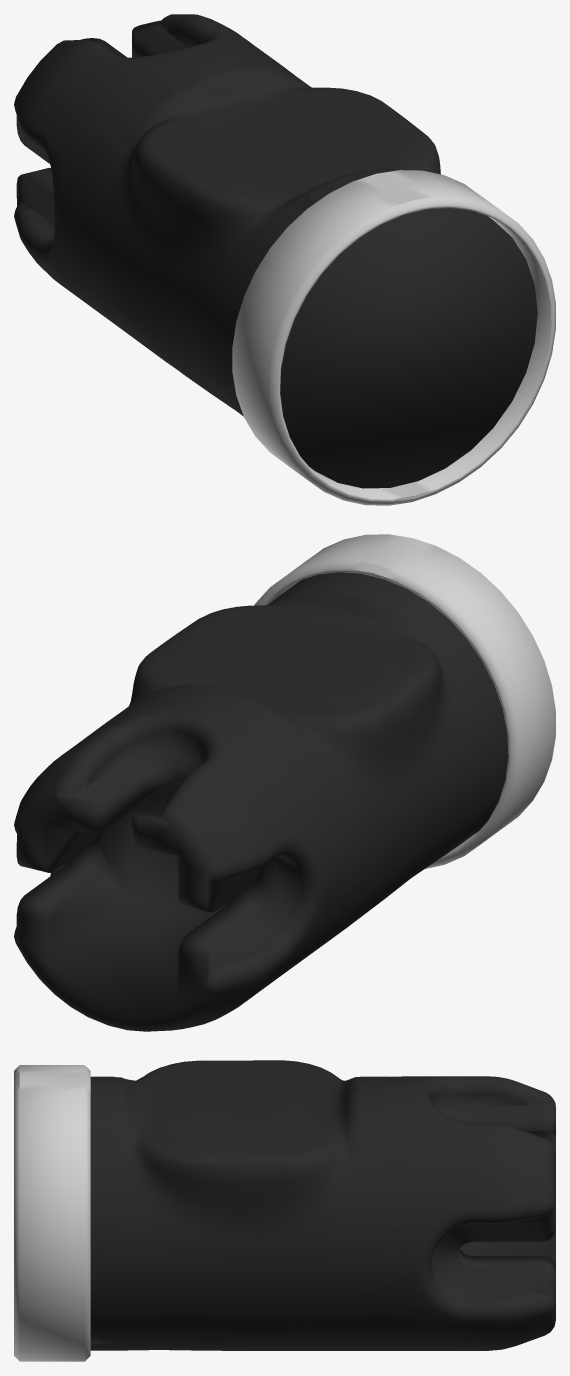
The model's file is mico_link_base.dae.
3 views of the same model, one above another, from view 1: azimuth 30°, elevation 25°; view 2: azimuth 150°, elevation 25°; view 3: azimuth 270°, elevation 25° (orthographic). The views are drawn at different scales.
Visible parts, largest first — view 1: Mico_very_simplified_-_Base_Mico-1, Shoulder_Ring_Link; view 2: Mico_very_simplified_-_Base_Mico-1, Shoulder_Ring_Link; view 3: Mico_very_simplified_-_Base_Mico-1, Shoulder_Ring_Link.
Boxes of the visible parts, x1=… form: Mico_very_simplified_-_Base_Mico-1: x1=14, y1=14, x2=537, y2=488; Shoulder_Ring_Link: x1=232, y1=170, x2=555, y2=505; Mico_very_simplified_-_Base_Mico-1: x1=14, y1=572, x2=508, y2=1031; Shoulder_Ring_Link: x1=254, y1=534, x2=555, y2=868; Mico_very_simplified_-_Base_Mico-1: x1=90, y1=1060, x2=555, y2=1350; Shoulder_Ring_Link: x1=14, y1=1065, x2=90, y2=1361.
Bounding box in the file's own units: 0.0889 × 0.0892 × 0.1627.
1 material, 1 textured.
